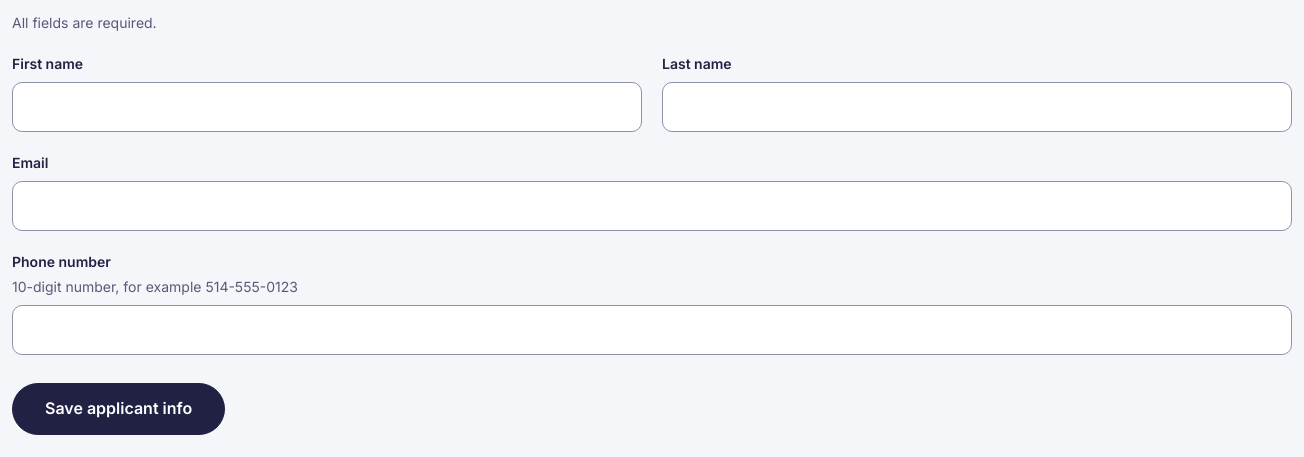
Test: ApplicantForm › submits trimmed values with a normalized phone number
The image size is (1304, 457).
Type " Jane " into the field labelled "First name" at x=327, y=107, box [12, 82, 642, 132]
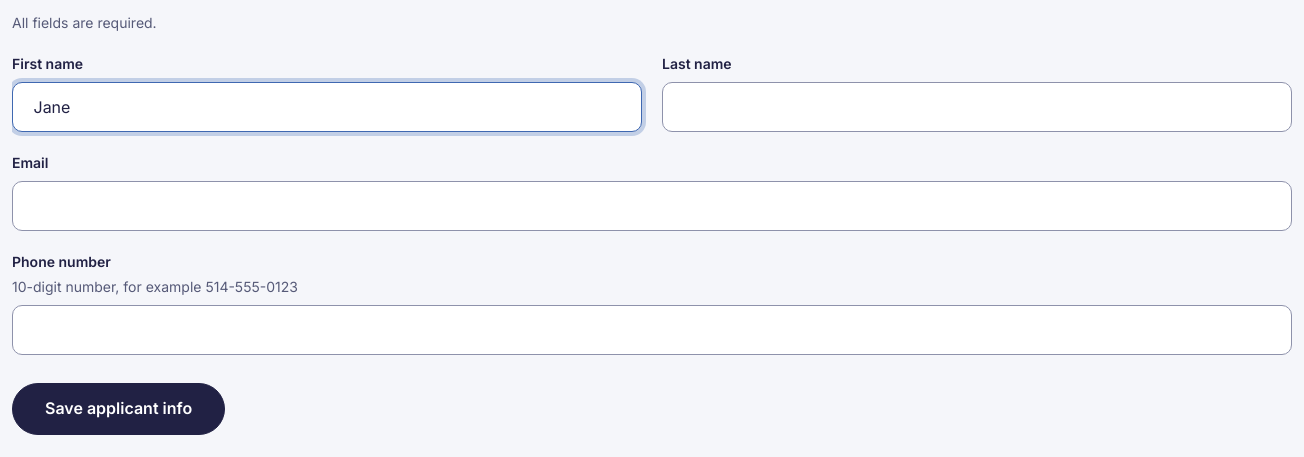
Type "Roy" into the field labelled "Last name" at x=977, y=107, box [662, 82, 1292, 132]
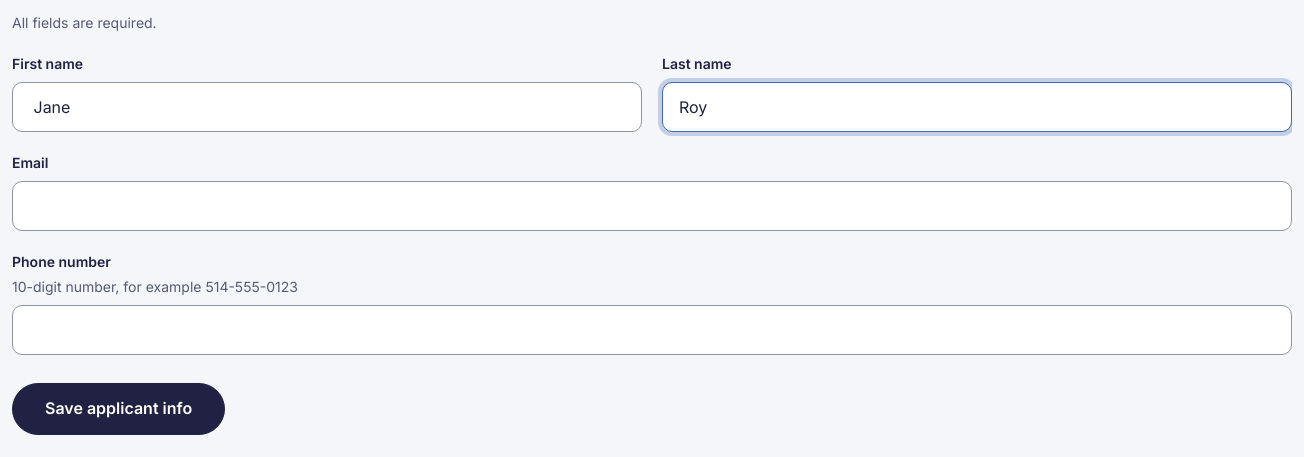
Type "jane.roy@example.com " into the field labelled "Email" at x=652, y=206, box [12, 181, 1292, 231]
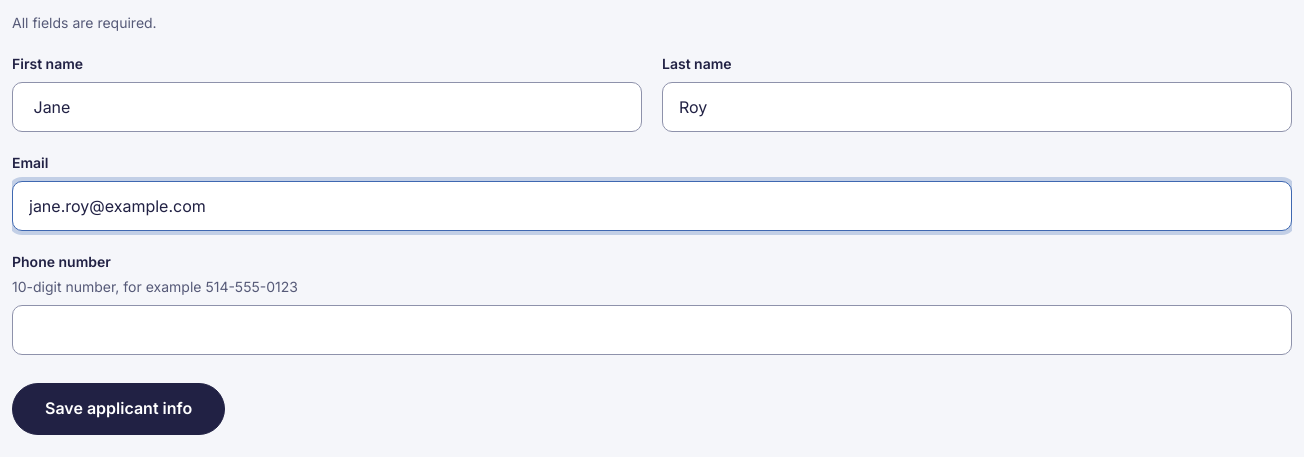
Type "514 555 0101" into the field labelled "Phone number" at x=652, y=330, box [12, 305, 1292, 355]
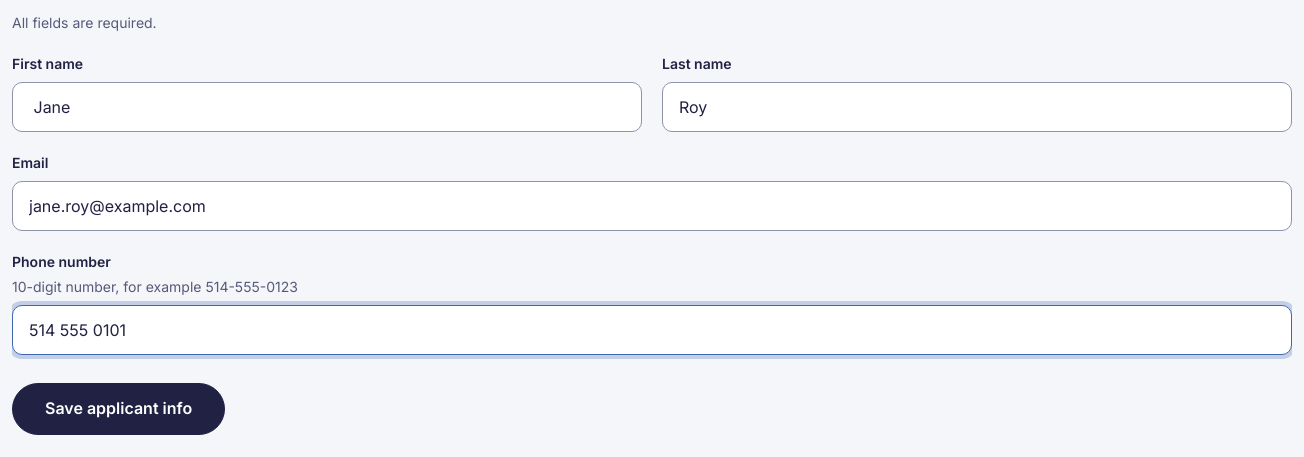
Click the button "Save applicant info" at x=119, y=409, box [12, 383, 225, 435]
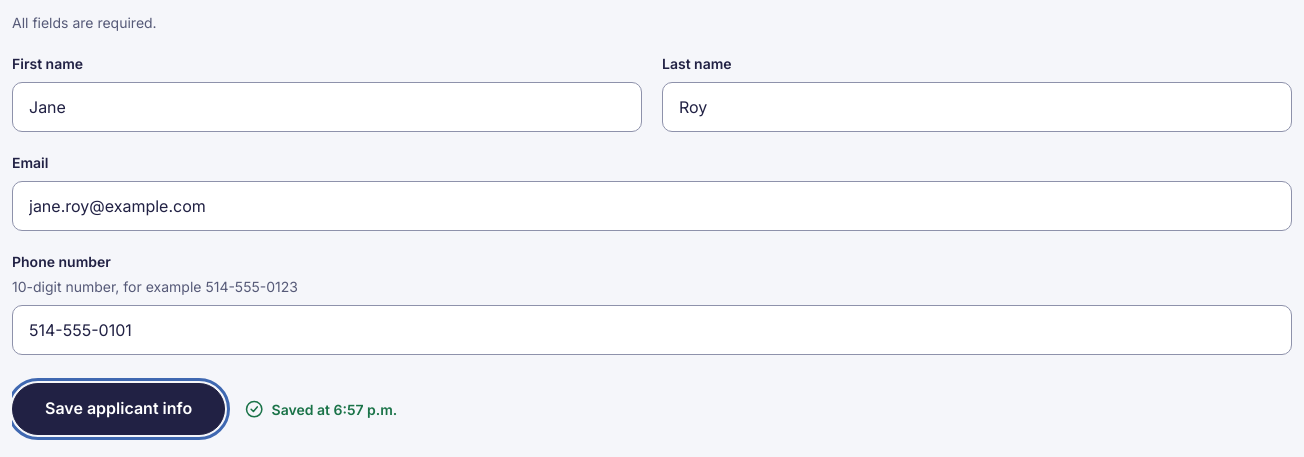
Expected: the text "Saved at 6:57 p.m." is shown, [245, 398, 397, 420]
Expected: the field labelled "Phone number" holds "514-555-0101", [12, 305, 1292, 355]
